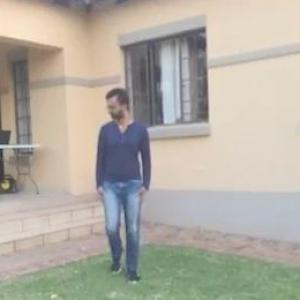follow: (90, 81, 149, 287)
